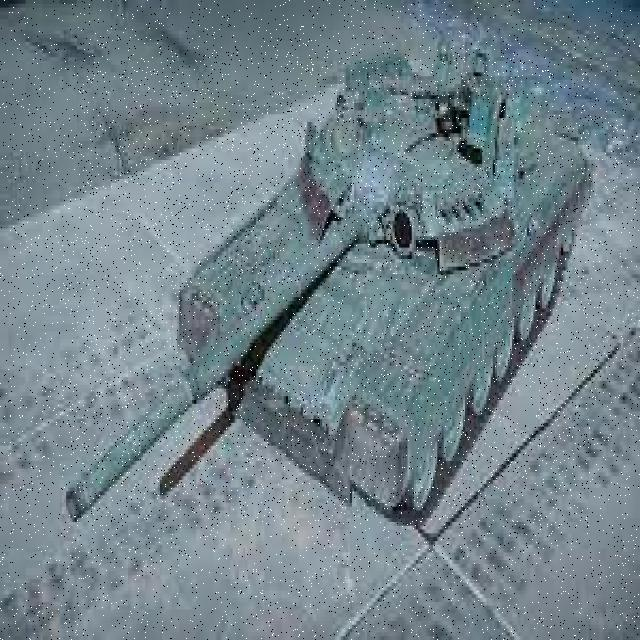MIL_MBT: (64, 36, 591, 528)
